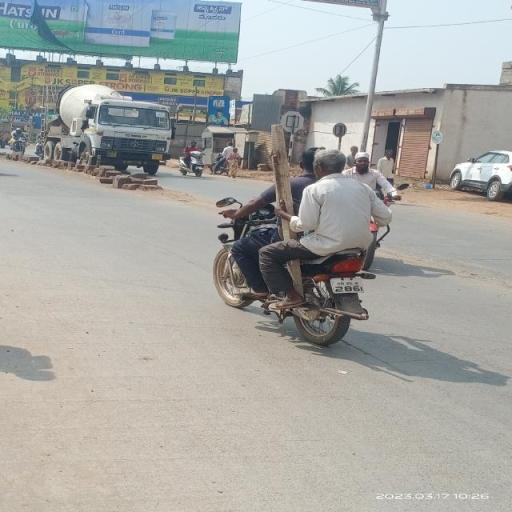bike: (210, 144, 397, 347)
numberplate: (331, 278, 367, 294)
withouthelmet: (316, 148, 344, 175), (300, 150, 314, 172)
